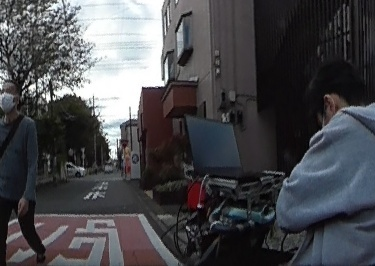person: (283, 64, 375, 266)
